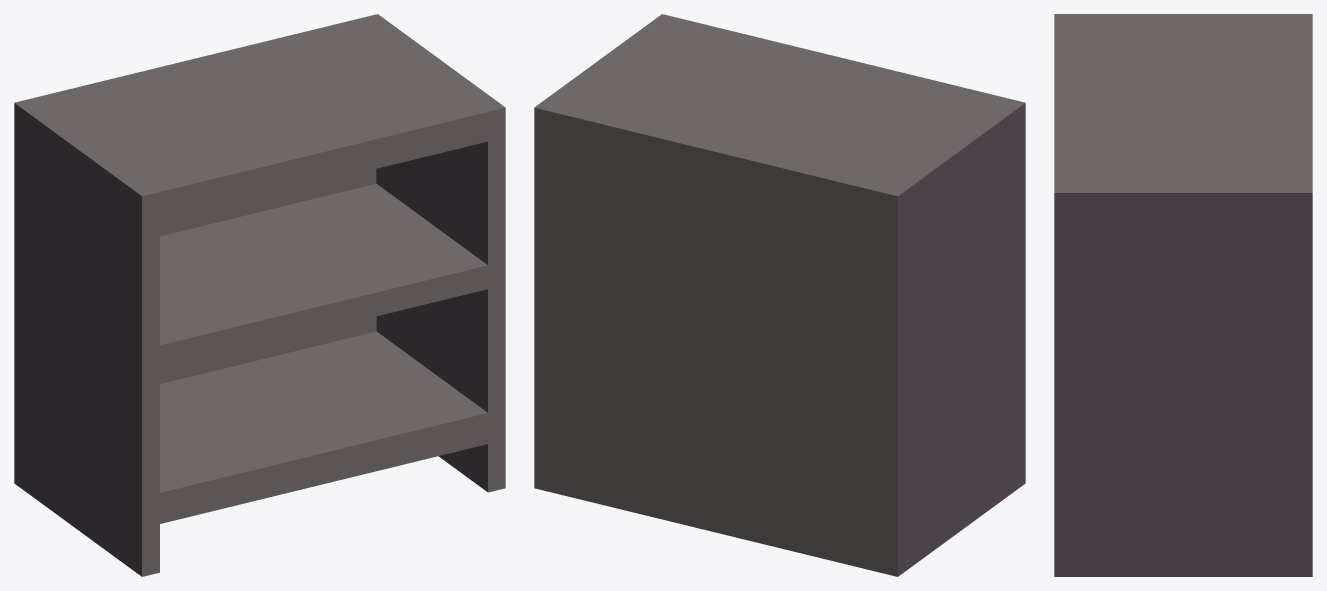
The model's file is DrawerShelves.fbx.
3 renders of one model, left to right at view 1: azimuth 30°, elevation 25°; view 2: azimuth 150°, elevation 25°; view 3: azimuth 270°, elevation 25°, orthographic.
Parts seen in each view (by area): view 1: DrawerShelves; view 2: DrawerShelves; view 3: DrawerShelves.
Part boxes in pixels (bbox=[...]): DrawerShelves: bbox=[14, 14, 505, 576]; DrawerShelves: bbox=[534, 14, 1025, 576]; DrawerShelves: bbox=[1054, 14, 1312, 576].
Bounding box in the file's own units: 200 × 200 × 122.
